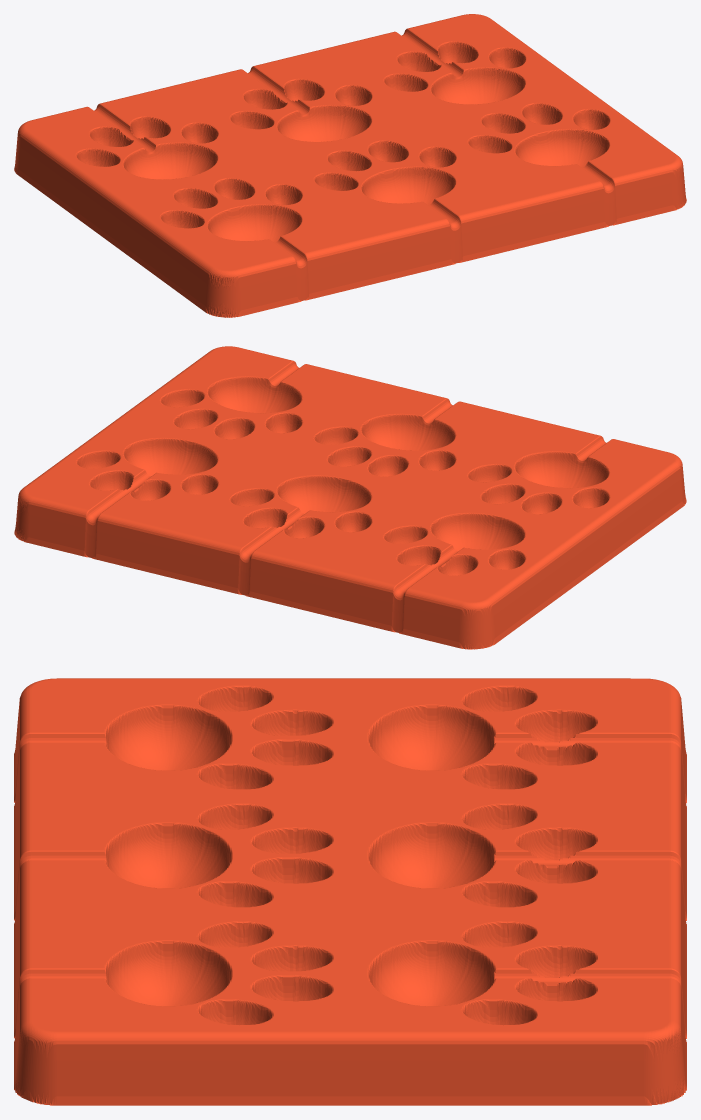
Rendered from mold.glb.
3 renders of one model, top to bottom at view 1: azimuth 30°, elevation 25°; view 2: azimuth 150°, elevation 25°; view 3: azimuth 270°, elevation 25°, orthographic. The views are drawn at different scales.
Visible parts, largest first — view 1: geometry_0; view 2: geometry_0; view 3: geometry_0.
Part boxes in pixels (<box>): geometry_0: <box>14,14,686,317</box>; geometry_0: <box>14,346,686,649</box>; geometry_0: <box>14,678,686,1105</box>.
Size of the model in its own units: 0.1824 by 0.0155 by 0.1416.
